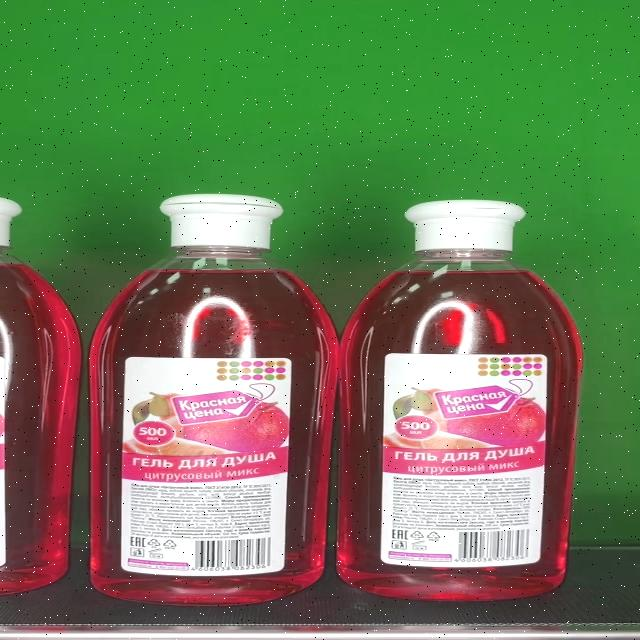Bottle: (90, 192, 342, 604), (338, 200, 584, 600)
Cap: (404, 201, 529, 254), (158, 194, 282, 246)
